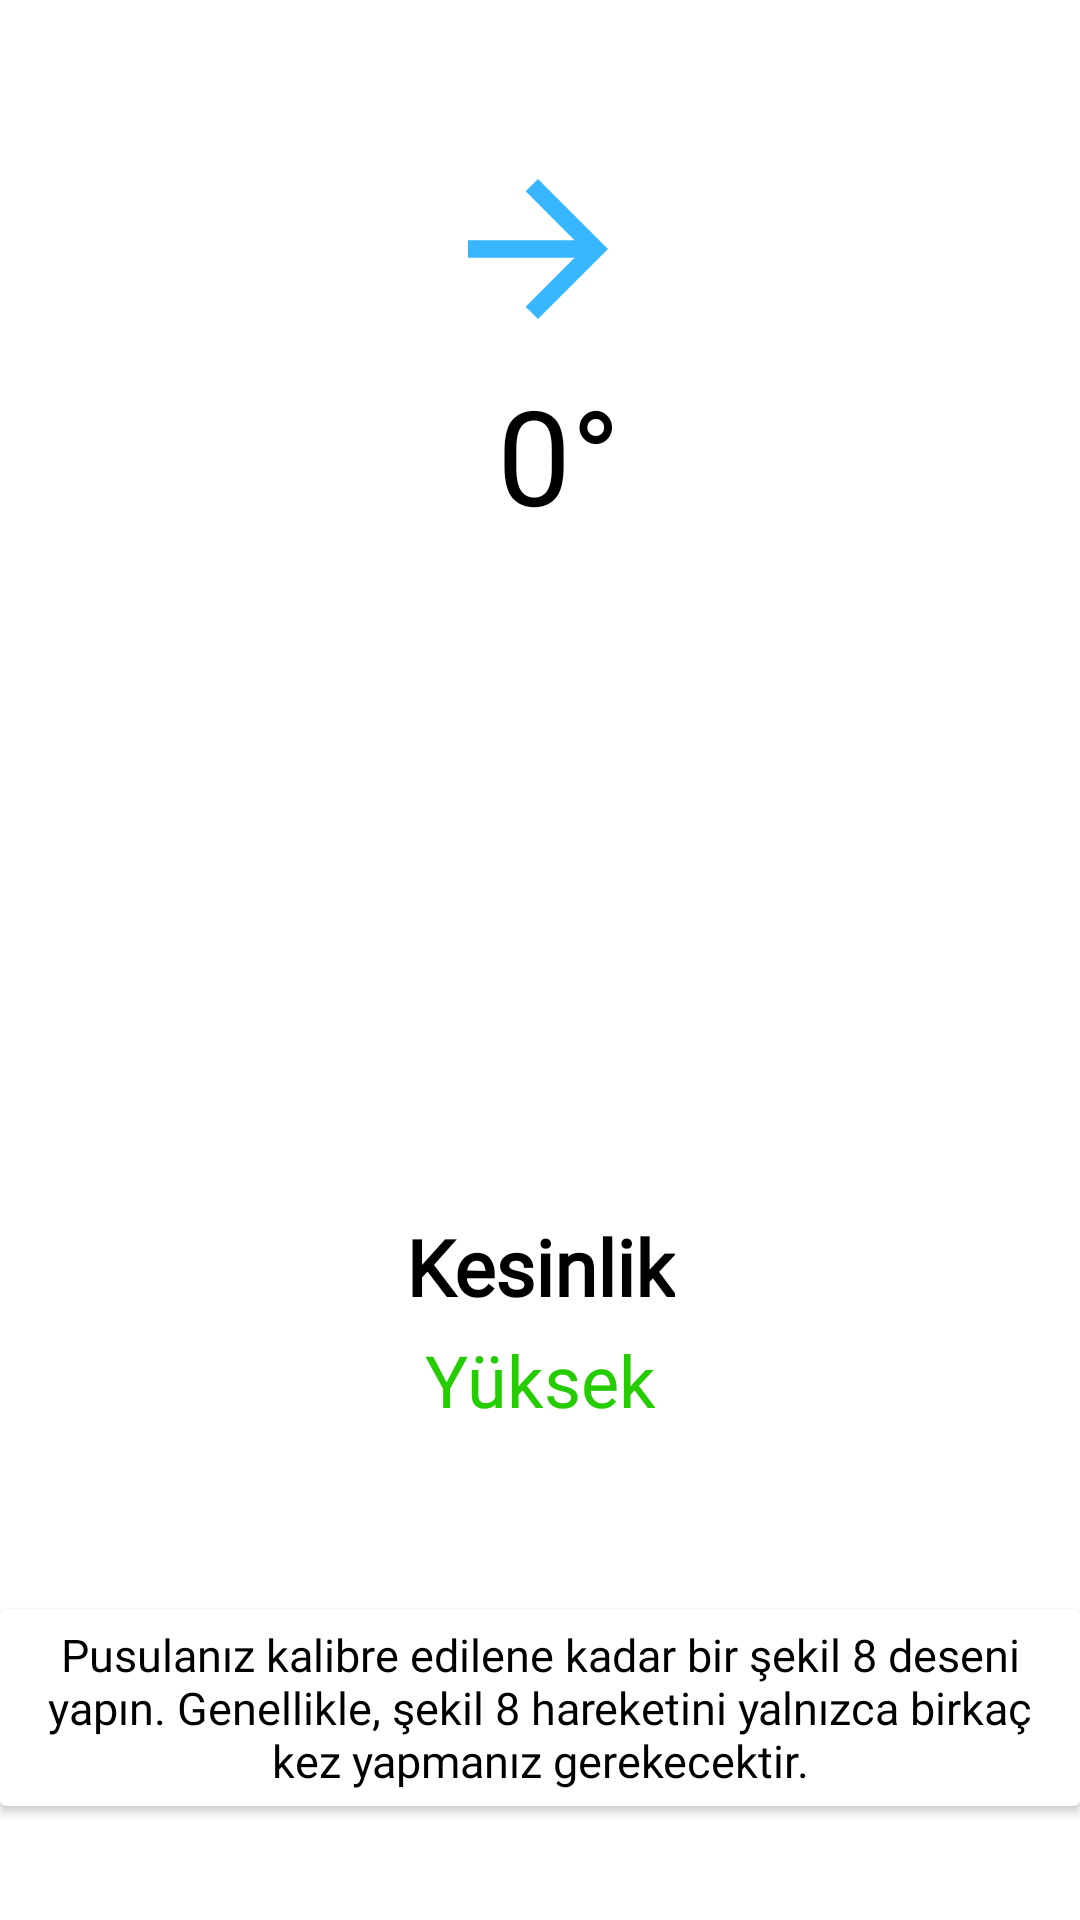

Screen size 1080px x 1920px. Icon name, then its box in pixels as (x1, y1, x2, y2):
arrow forward: (468, 179, 608, 319)
